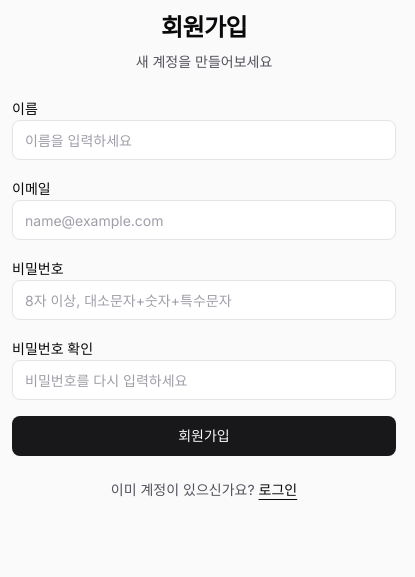
Test: Register › 회원가입 실패 시 에러 Alert가 표시된다
Type "테스트유저" into the field labelled "이름". click: (204, 140)
box: x1=12 y1=120 x2=396 y2=160
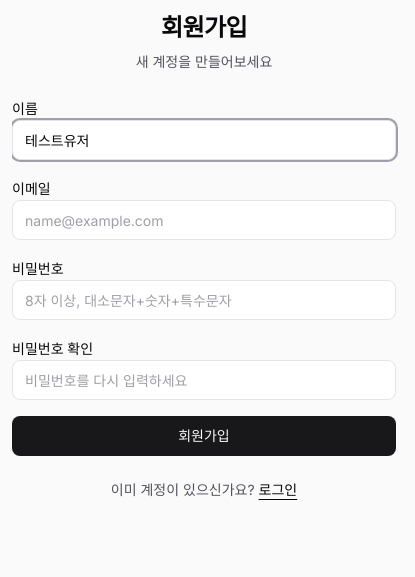
Type "test@example.com" into the field labelled "이메일". click: (204, 220)
box: x1=12 y1=200 x2=396 y2=240
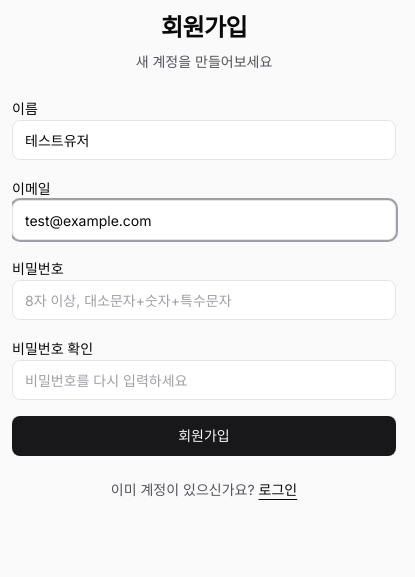
Type "Password1!" into the password field labelled "비밀번호". click: (204, 300)
box: x1=12 y1=280 x2=396 y2=320
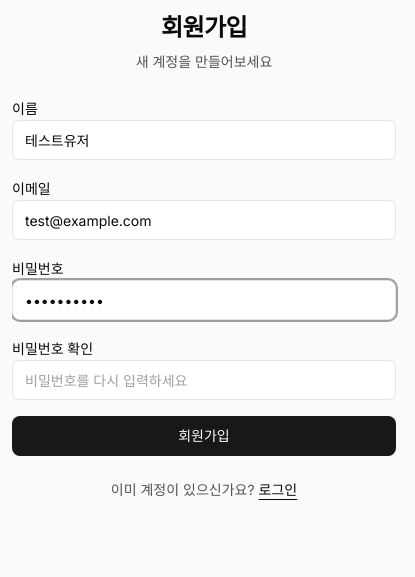
Type "Password1!" into the password field labelled "비밀번호 확인". click: (204, 380)
box: x1=12 y1=360 x2=396 y2=400
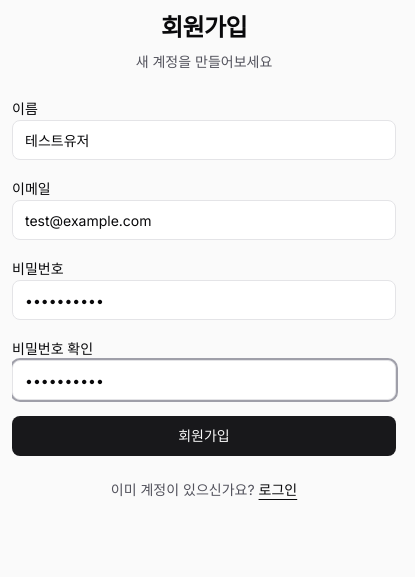
Click the button "회원가입". click: (204, 436)
box: x1=12 y1=416 x2=396 y2=456
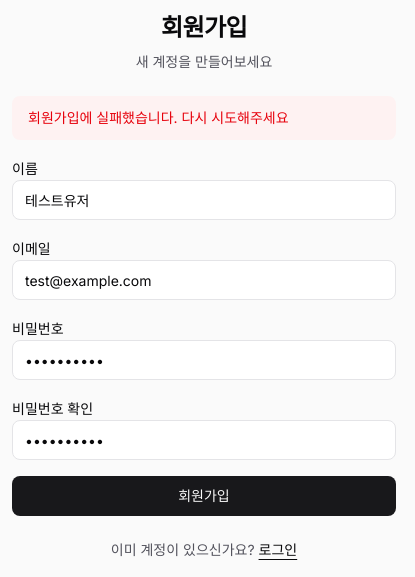
Check: the message reads "회원가입에 실패했습니다. 다시 시도해주세요", box x1=28 y1=109 x2=289 y2=126
